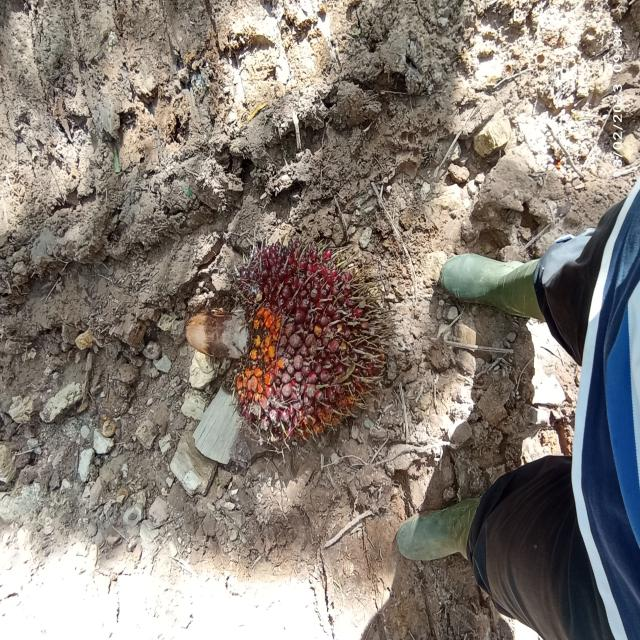fraksi 3: (199, 214, 411, 476)
